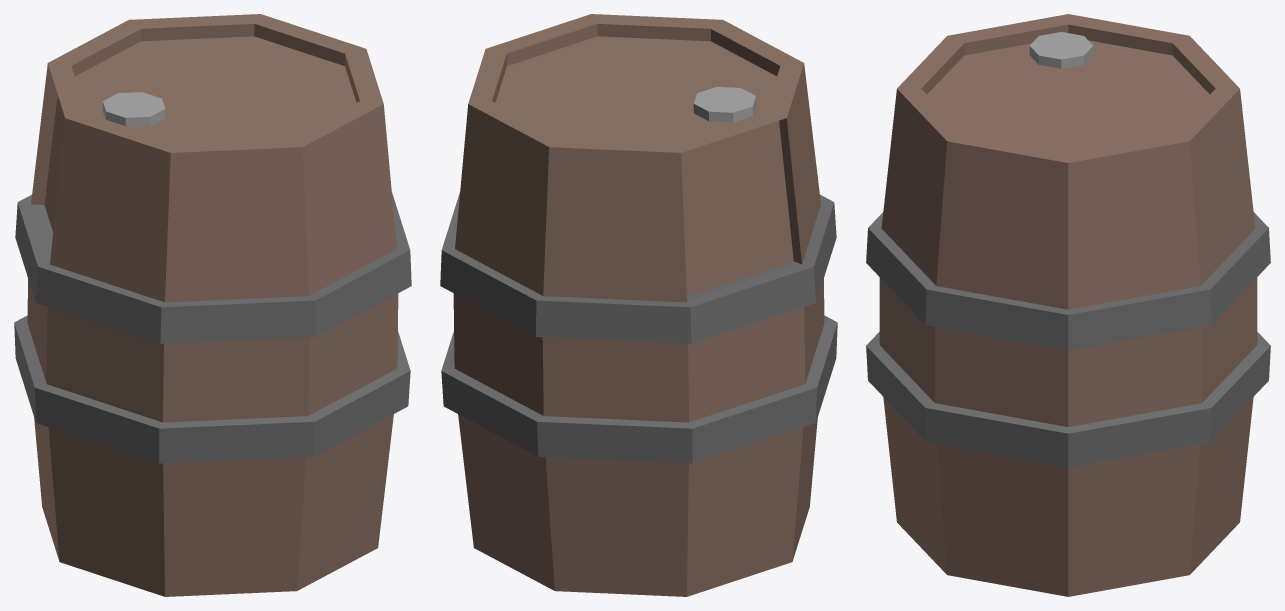
File: Barrel.fbx
3 renders of one model, left to right at view 1: azimuth 30°, elevation 25°; view 2: azimuth 150°, elevation 25°; view 3: azimuth 270°, elevation 25°, orthographic.
Visible parts, largest first — view 1: polySurface6; view 2: polySurface6; view 3: polySurface6.
Boxes of the visible parts, x1,y1,x2,y2 form: polySurface6: (14, 14, 411, 596); polySurface6: (440, 14, 837, 596); polySurface6: (866, 14, 1270, 596).
Bounding box in the file's own units: 9.42 × 11.29 × 9.39.
